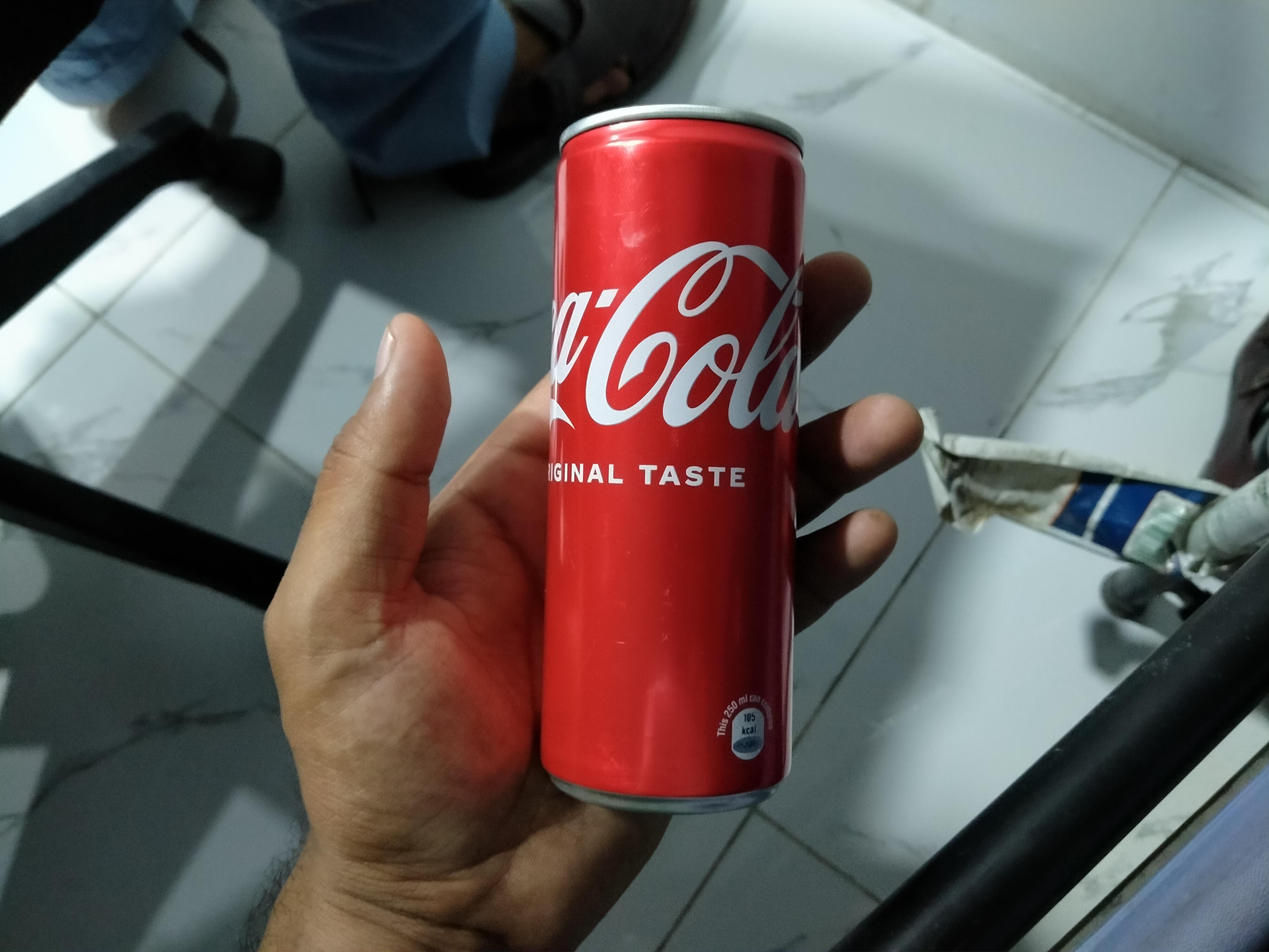tin can: (540, 101, 809, 817)
